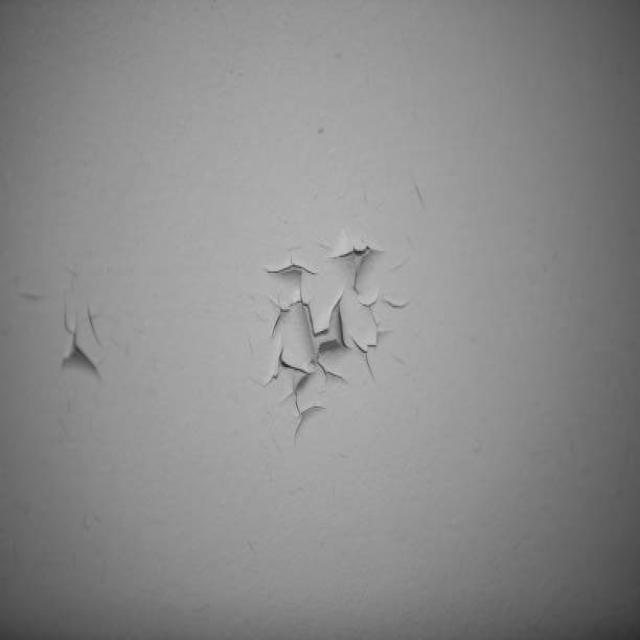peeling paint: (214, 206, 471, 454), (24, 248, 142, 410)
